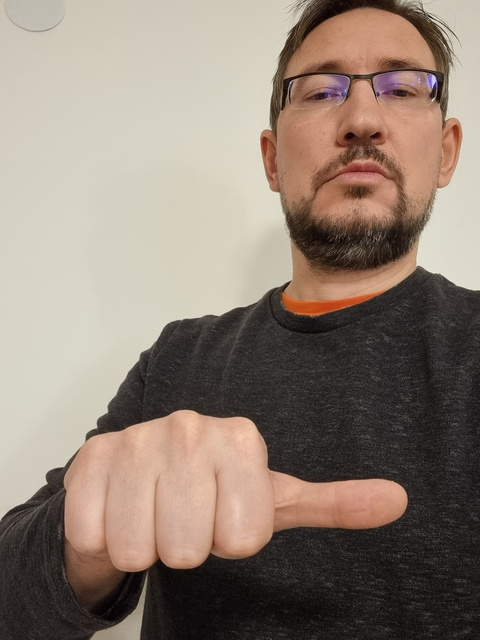GestBack: (65, 408, 407, 572)
